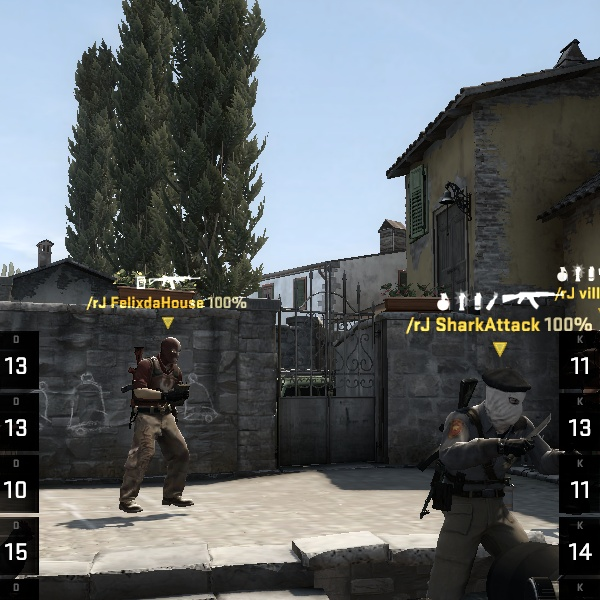t_body: (109, 330, 210, 517)
t_head: (146, 332, 186, 374)
